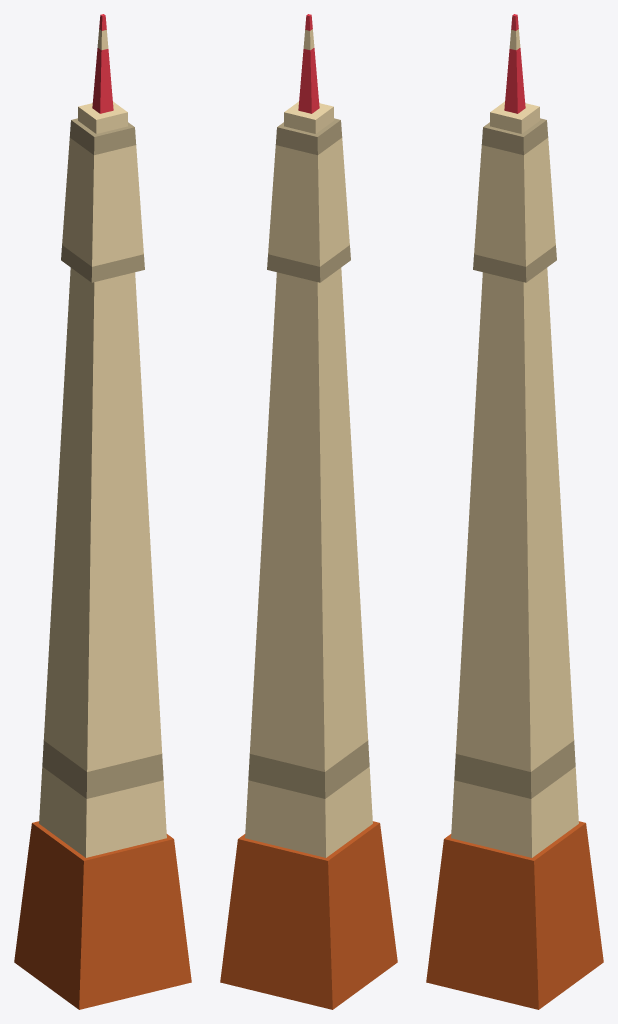
Rendered from Tower.fbx.
3 views of the same model, side by side, from view 1: azimuth 30°, elevation 25°; view 2: azimuth 150°, elevation 25°; view 3: azimuth 330°, elevation 25° (orthographic).
Visible parts, largest first — view 1: Tower; view 2: Tower; view 3: Tower.
Boxes of the visible parts, bbox=[...] form: Tower: bbox=[14, 14, 191, 1009]; Tower: bbox=[220, 14, 397, 1009]; Tower: bbox=[426, 14, 603, 1009].
Size of the model in its own units: 62.5 by 507 by 62.5.
